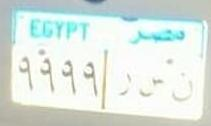9: (17, 57, 34, 92), (84, 62, 101, 95), (40, 57, 54, 94), (62, 60, 76, 96)
noon: (170, 71, 197, 104)
raa: (118, 70, 133, 95)
seen: (136, 75, 166, 102)
